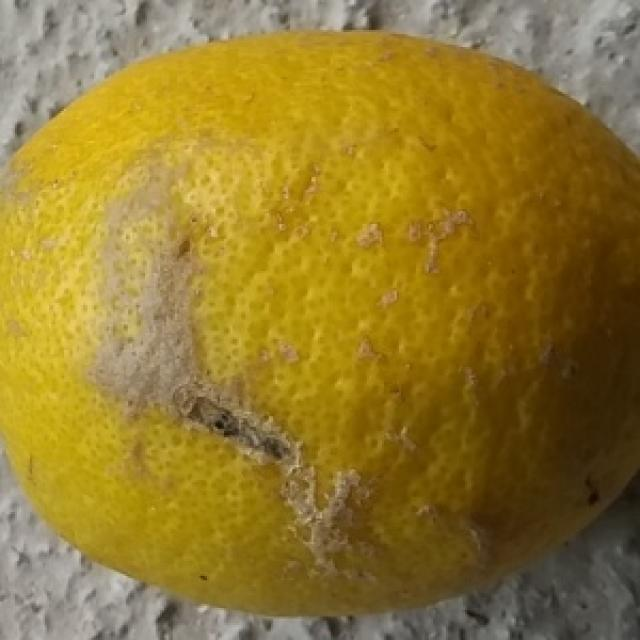overripe: (0, 18, 640, 626)
